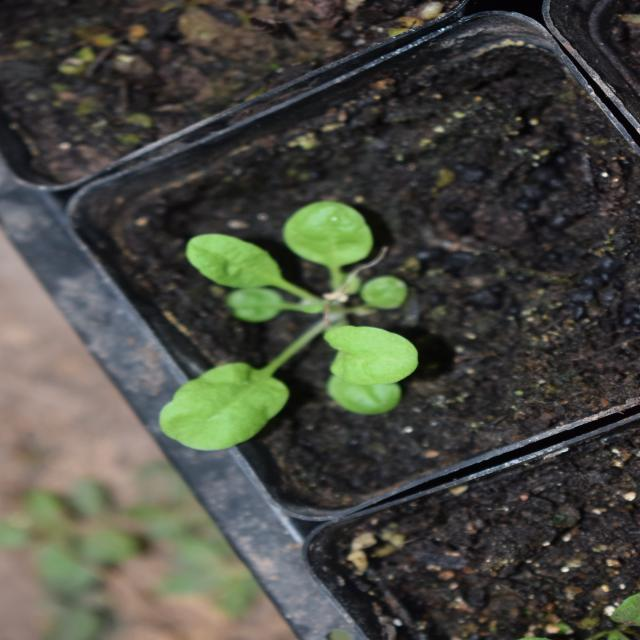Shepherd_Purse: (188, 148, 448, 420)
